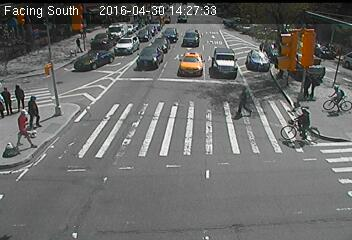neg: (284, 102, 317, 146), (120, 80, 149, 118), (161, 25, 183, 54), (194, 34, 216, 63), (324, 81, 345, 108), (247, 35, 265, 59), (132, 29, 145, 46)
pos: (10, 108, 38, 146), (227, 83, 253, 117), (23, 93, 48, 126), (8, 83, 28, 110), (298, 72, 318, 99), (70, 34, 84, 53)
